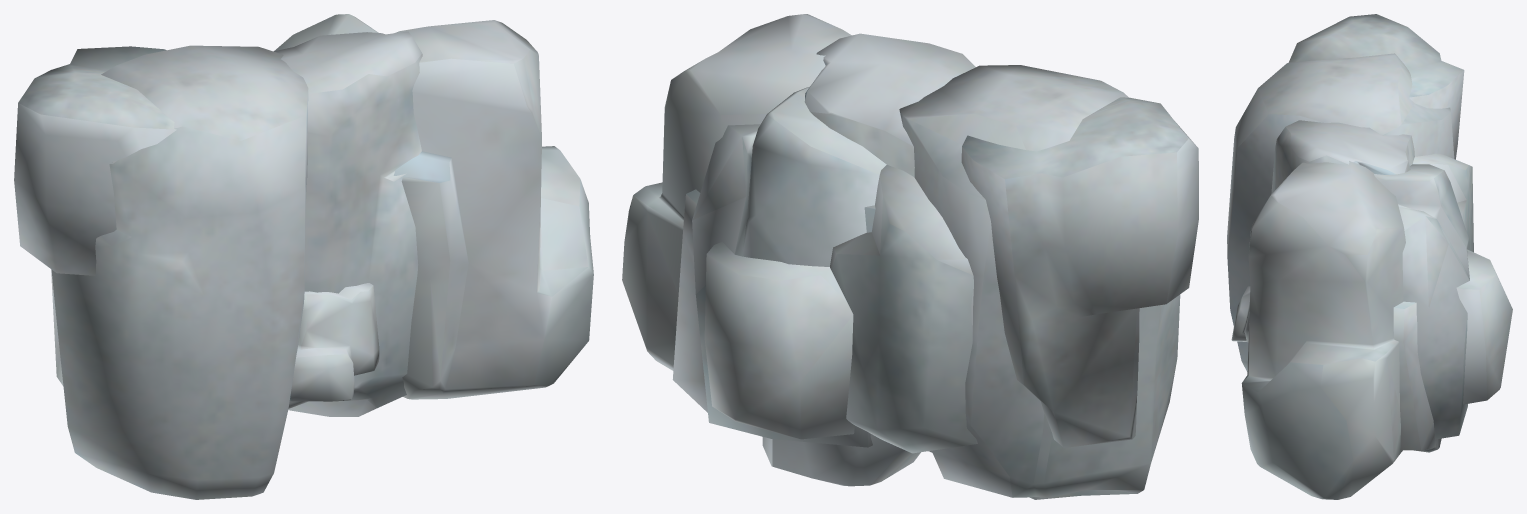
Rendered from P_RockSpire_RockClumpC02.obj.
3 views of the same model, side by side, from view 1: azimuth 30°, elevation 25°; view 2: azimuth 150°, elevation 25°; view 3: azimuth 270°, elevation 25° (orthographic). The views are drawn at different scales.
Bounding box in the file's own units: 26.27 × 17.42 × 14.7.
